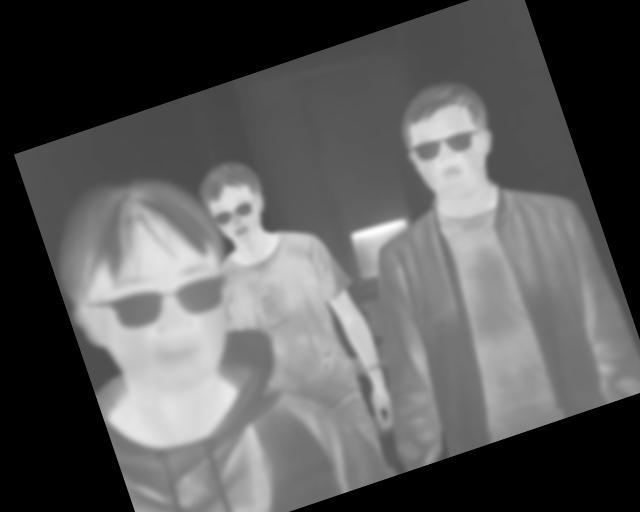face: (38, 155, 262, 416), (387, 70, 511, 212), (192, 151, 280, 254)
